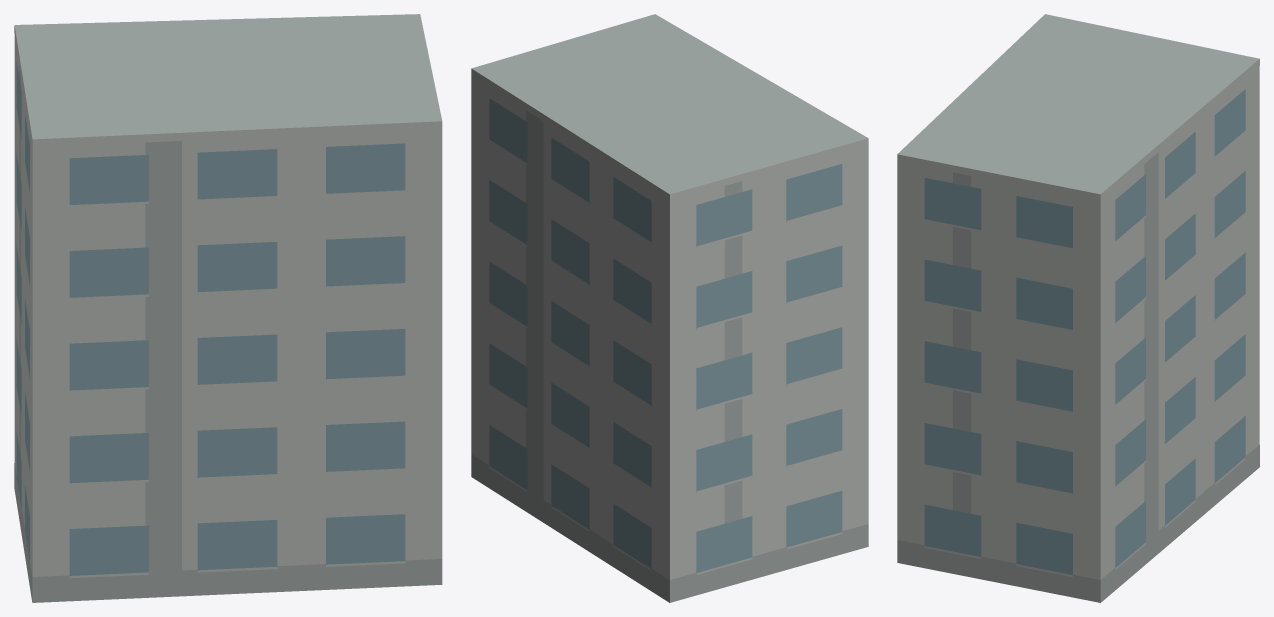
File: survey-upis-32912685.glb
3 views of the same model, side by side, from view 1: azimuth 30°, elevation 25°; view 2: azimuth 150°, elevation 25°; view 3: azimuth 270°, elevation 25° (orthographic). The views are drawn at different scales.
Parts seen in each view (by area): view 1: survey-upis-32912685.tmp; view 2: survey-upis-32912685.tmp; view 3: survey-upis-32912685.tmp.
Part boxes in pixels (x1,y1,x2,y2): survey-upis-32912685.tmp: [14, 14, 442, 602]; survey-upis-32912685.tmp: [471, 14, 868, 602]; survey-upis-32912685.tmp: [897, 14, 1259, 602].
Bounding box in the file's own units: 13.36 × 14.1 × 11.35.
